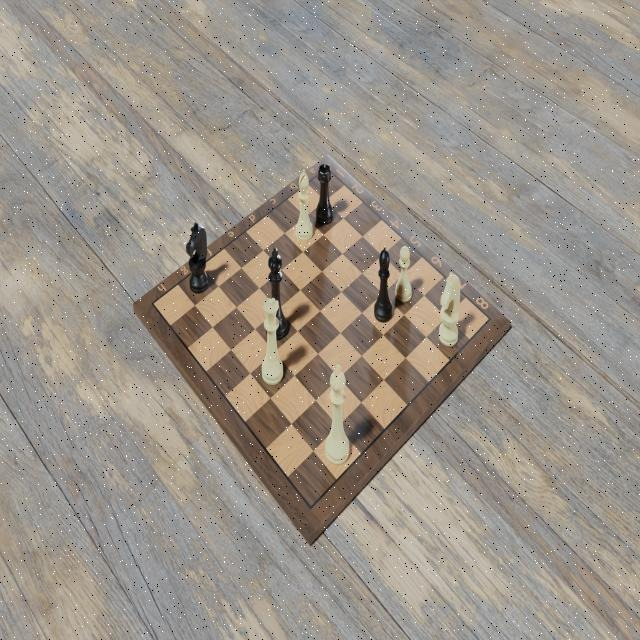black-bishop: (374, 244, 394, 323)
black-king: (265, 245, 289, 338)
black-knight: (185, 220, 208, 292)
black-rook: (316, 163, 332, 224)
white-bishop: (294, 166, 314, 242)
white-king: (325, 364, 351, 464)
white-knight: (438, 270, 461, 347)
white-pawn: (395, 244, 413, 304)
white-queen: (260, 297, 283, 385)
